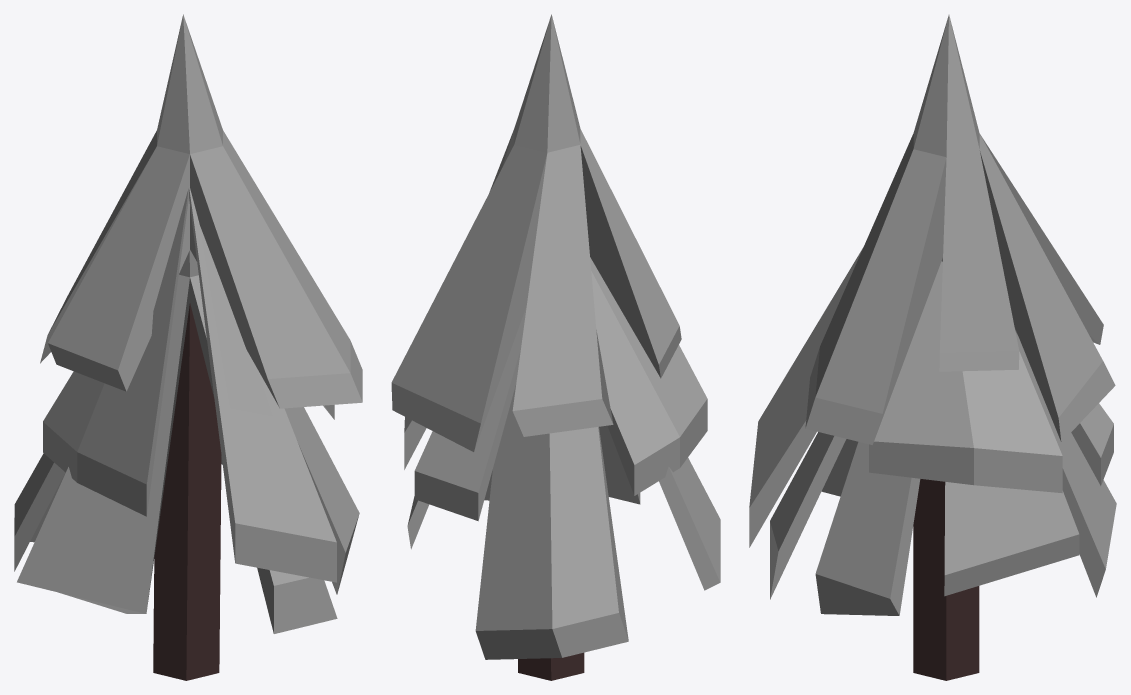
File: Tree4.fbx
3 renders of one model, left to right at view 1: azimuth 30°, elevation 25°; view 2: azimuth 150°, elevation 25°; view 3: azimuth 270°, elevation 25°, orthographic.
Parts seen in each view (by area): view 1: pCylinder1; view 2: pCylinder1; view 3: pCylinder1.
Part boxes in pixels (<box>): pCylinder1: <box>14,14,362,680</box>; pCylinder1: <box>391,14,720,680</box>; pCylinder1: <box>749,14,1116,680</box>.
Size of the model in its own units: 9.52 by 18.82 by 9.64.
